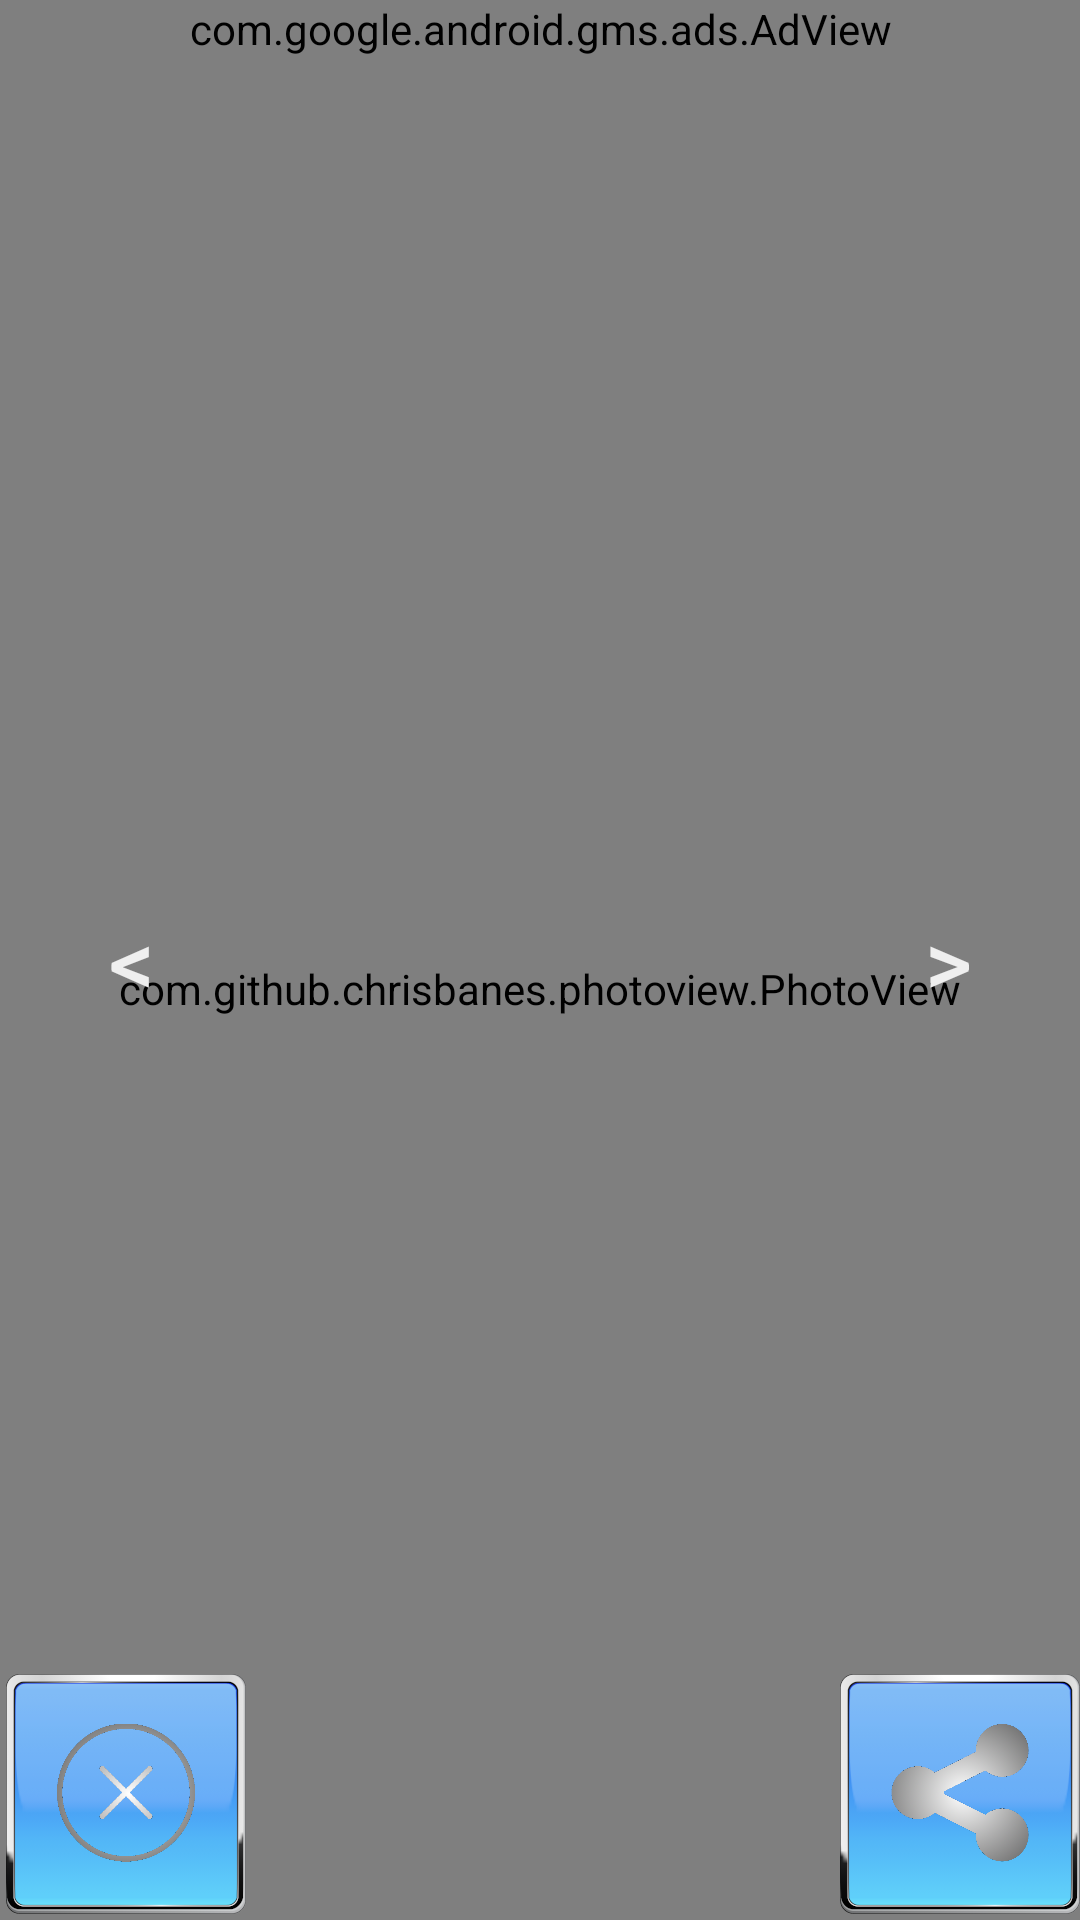

Where icons sit on this 1080 x 1920 app screen, as [x1, y1, x2, y2]:
exit: [6, 1674, 245, 1914]
share: [840, 1674, 1079, 1914]
